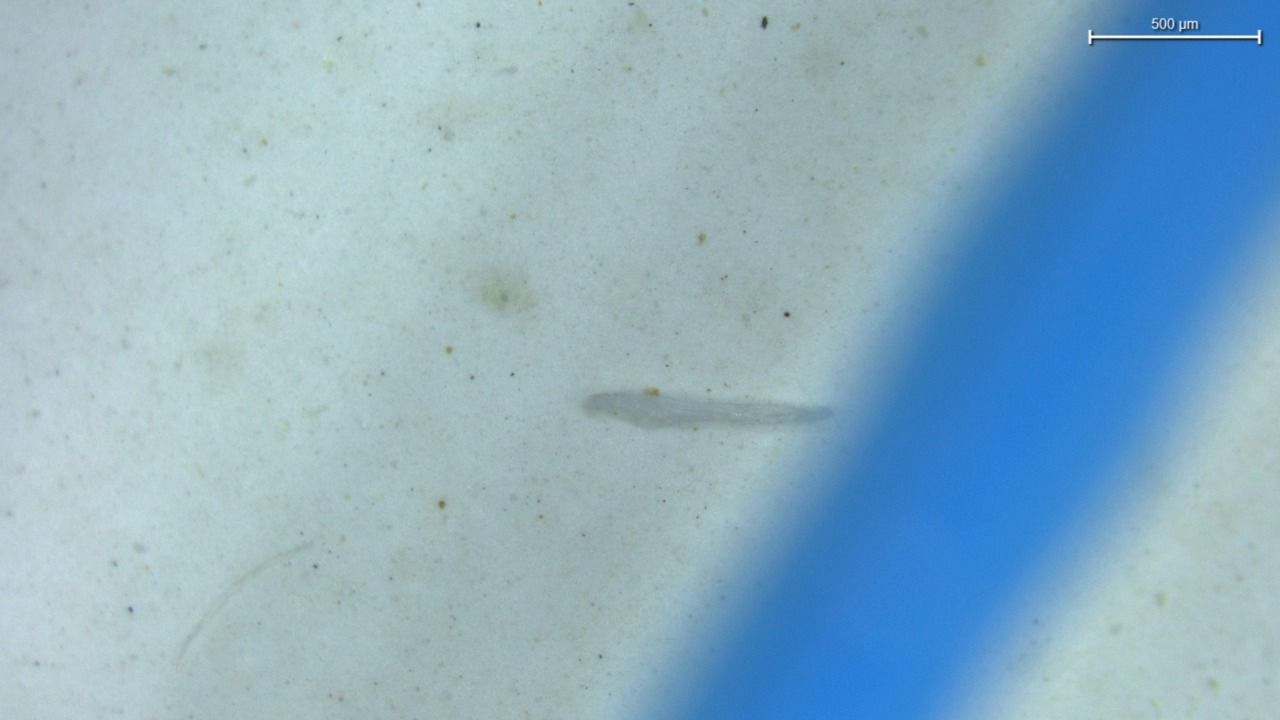microplastic_fragment: (581, 388, 833, 430)
